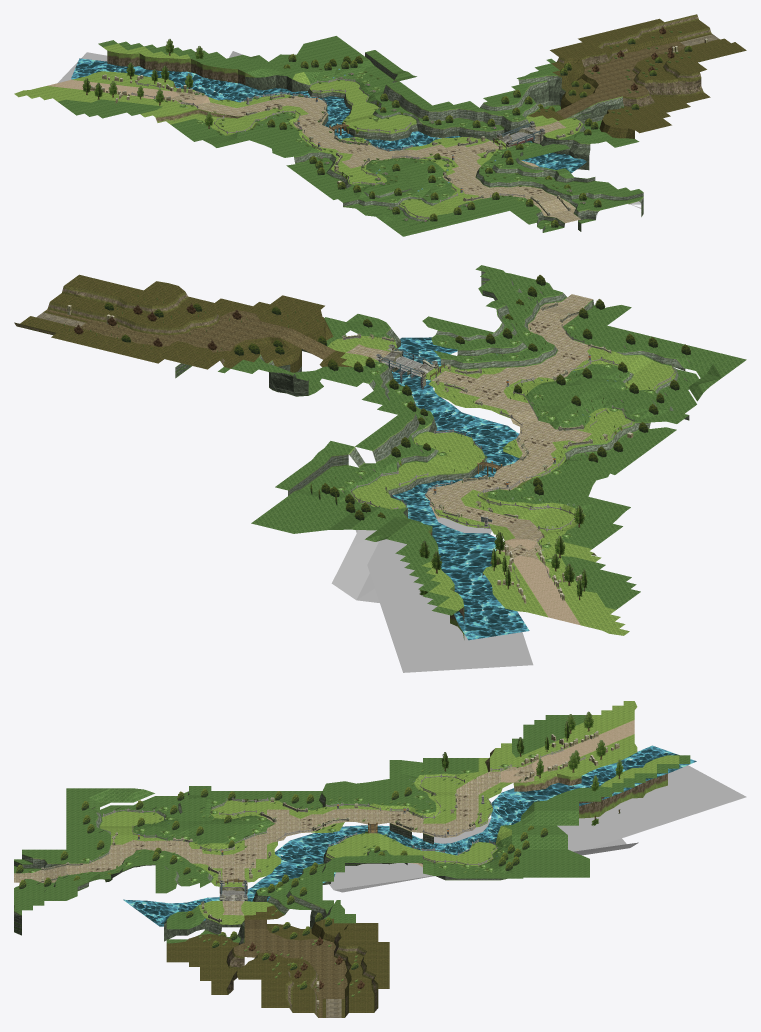
File: Armorica3.obj
The picture shows the model from 3 angles, top to bottom: view 1: azimuth 30°, elevation 25°; view 2: azimuth 150°, elevation 25°; view 3: azimuth 270°, elevation 25°; orthographic projection. The views are drawn at different scales.
Parts seen in each view (by area): view 1: Object.192, Object.232, Object.210, Object.95, Object.69, Object.18, Object.12, Object.191, Object.187, Object.24, Object.223, Object.233 (+64 smaller); view 2: Object.370, Object.232, Object.192, Object.191, Object.372, Object.223, Object.210, Object.215, Object.24, Object.221, Object.213, Object.209 (+57 smaller); view 3: Object.232, Object.210, Object.370, Object.192, Object.372, Object.115, Object.12, Object.209, Object.18, Object.223, Object.24, Object.191 (+56 smaller).
Part boxes in pixels (bbox=[...]): Object.192: bbox=[382, 161, 451, 194]; Object.232: bbox=[280, 43, 365, 78]; Object.210: bbox=[239, 54, 315, 79]; Object.95: bbox=[653, 67, 703, 96]; Object.69: bbox=[418, 108, 490, 135]; Object.18: bbox=[646, 59, 710, 110]; Object.12: bbox=[584, 57, 636, 92]; Object.191: bbox=[324, 181, 408, 211]; Object.187: bbox=[544, 171, 613, 208]; Object.24: bbox=[550, 35, 611, 65]; Object.223: bbox=[198, 128, 274, 147]; Object.233: bbox=[316, 67, 387, 96]; Object.370: bbox=[424, 632, 500, 670]; Object.232: bbox=[264, 492, 370, 529]; Object.192: bbox=[525, 371, 623, 414]; Object.191: bbox=[602, 388, 690, 438]; Object.372: bbox=[391, 597, 455, 636]; Object.223: bbox=[552, 482, 630, 527]; Object.210: bbox=[340, 507, 423, 539]; Object.215: bbox=[665, 344, 746, 377]; Object.24: bbox=[137, 341, 231, 369]; Object.221: bbox=[487, 474, 578, 504]; Object.213: bbox=[355, 424, 434, 475]; Object.209: bbox=[639, 369, 721, 408]; Object.232: bbox=[497, 835, 567, 877]; Object.210: bbox=[501, 806, 578, 848]; Object.370: bbox=[645, 767, 728, 807]; Object.192: bbox=[166, 816, 233, 844]; Object.372: bbox=[588, 798, 684, 827]; Object.115: bbox=[329, 863, 414, 889]; Object.12: bbox=[267, 933, 343, 961]; Object.209: bbox=[100, 788, 166, 816]; Object.18: bbox=[201, 957, 285, 994]; Object.223: bbox=[367, 760, 433, 788]; Object.24: bbox=[334, 923, 389, 956]; Object.191: bbox=[166, 790, 233, 818].
Size of the model in its own units: 280 by 28 by 263.
